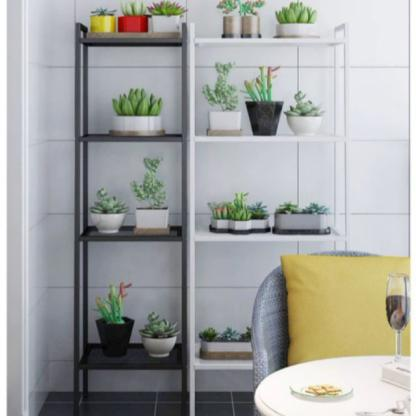lamp: (190, 17, 351, 416), (72, 20, 190, 416)
